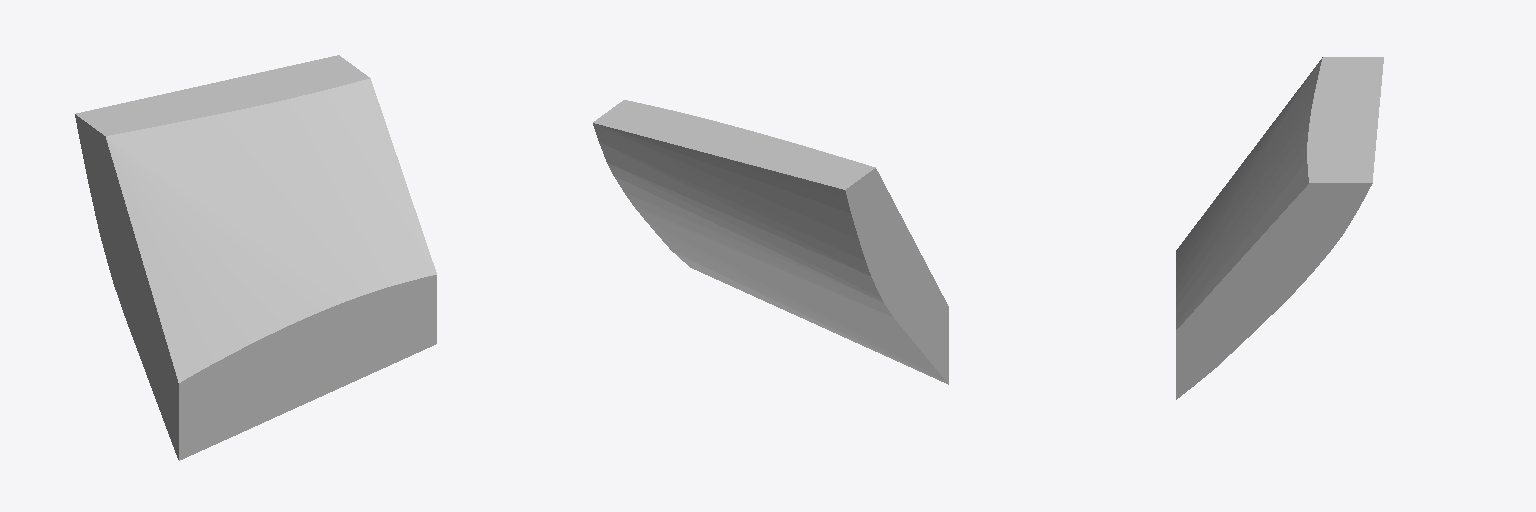
Rendered from phantom-elastrat_collision_395.obj.
3 views of the same model, side by side, from view 1: azimuth 30°, elevation 25°; view 2: azimuth 150°, elevation 25°; view 3: azimuth 270°, elevation 25° (orthographic).
Bounding box in the file's own units: 0.0086 × 0.0086 × 0.006.